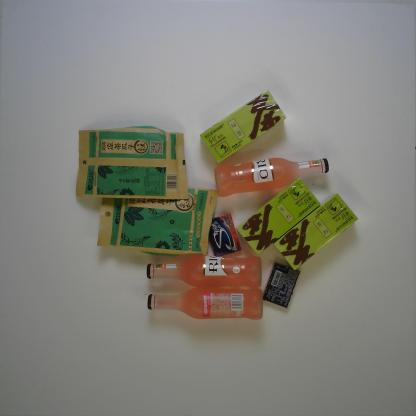Alcohol: (213, 156, 330, 198), (146, 252, 262, 288), (147, 285, 263, 321)
Dried Food: (96, 184, 219, 256), (75, 125, 189, 200)
Gum: (262, 261, 301, 309), (208, 212, 242, 257)
Instant Drink: (273, 192, 360, 272), (236, 177, 322, 256), (199, 89, 287, 164)
